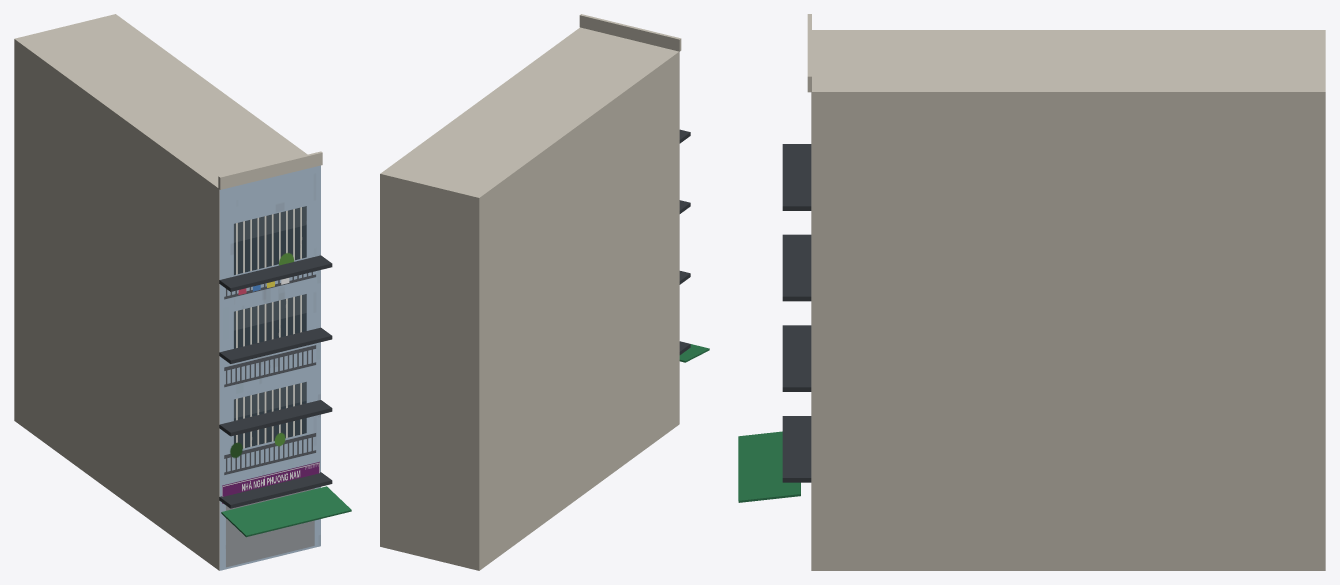
The model's file is tube_house_h.glb.
3 renders of one model, left to right at view 1: azimuth 30°, elevation 25°; view 2: azimuth 150°, elevation 25°; view 3: azimuth 270°, elevation 25°, orthographic. The views are drawn at different scales.
Visible parts, largest first — view 1: tubehouse; view 2: tubehouse; view 3: tubehouse.
Part boxes in pixels (left/top/right/bottom): tubehouse: left=14, top=14, right=351, bottom=570; tubehouse: left=380, top=14, right=709, bottom=570; tubehouse: left=738, top=14, right=1325, bottom=570.
Bounding box in the file's own units: 5.35 × 19.1 × 20.55.
Materials: 5 (2 with a texture image).
